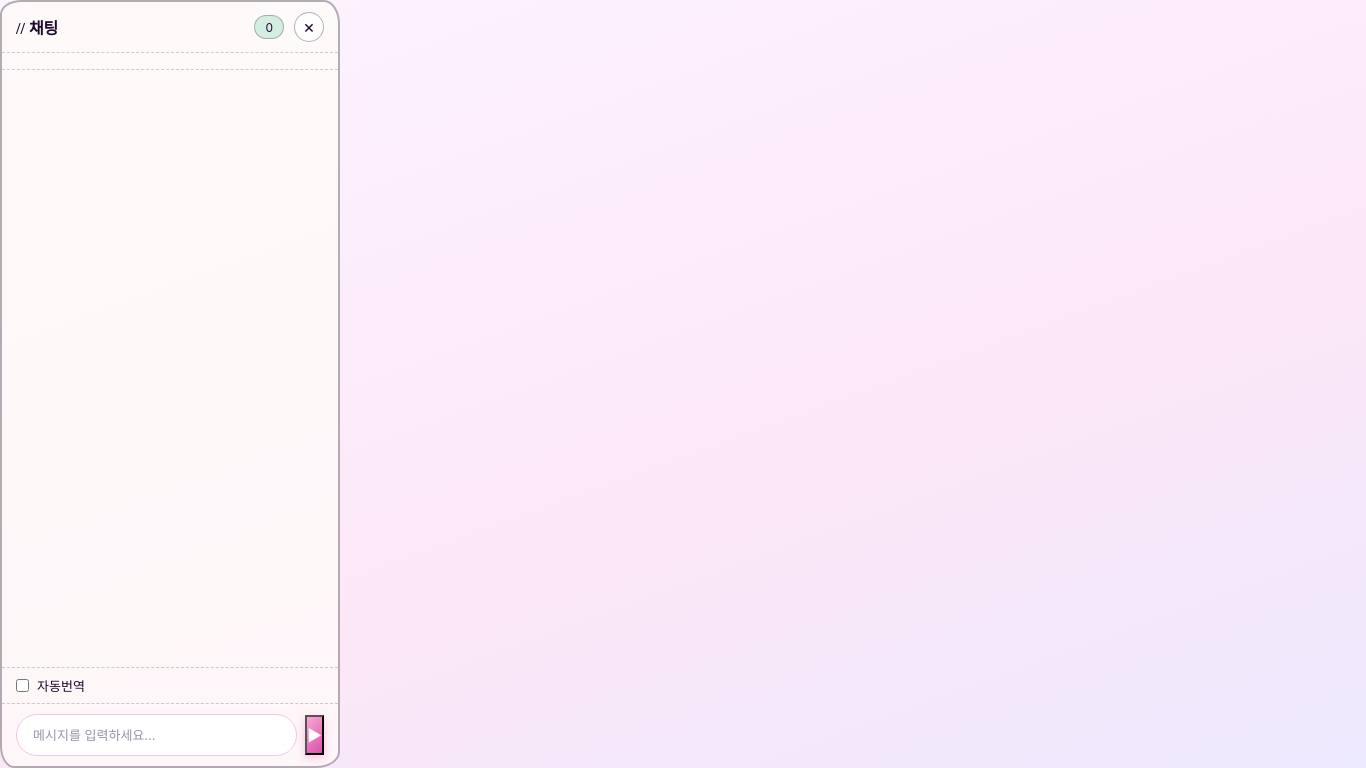
it: ChatDock 입력창 › ack가 오지 않으면 타임아웃으로 입력을 보존하고 실패를 알린다
The image size is (1366, 768).
Type "hello" into the field at {"x": 157, "y": 735}, box [16,714,297,756]
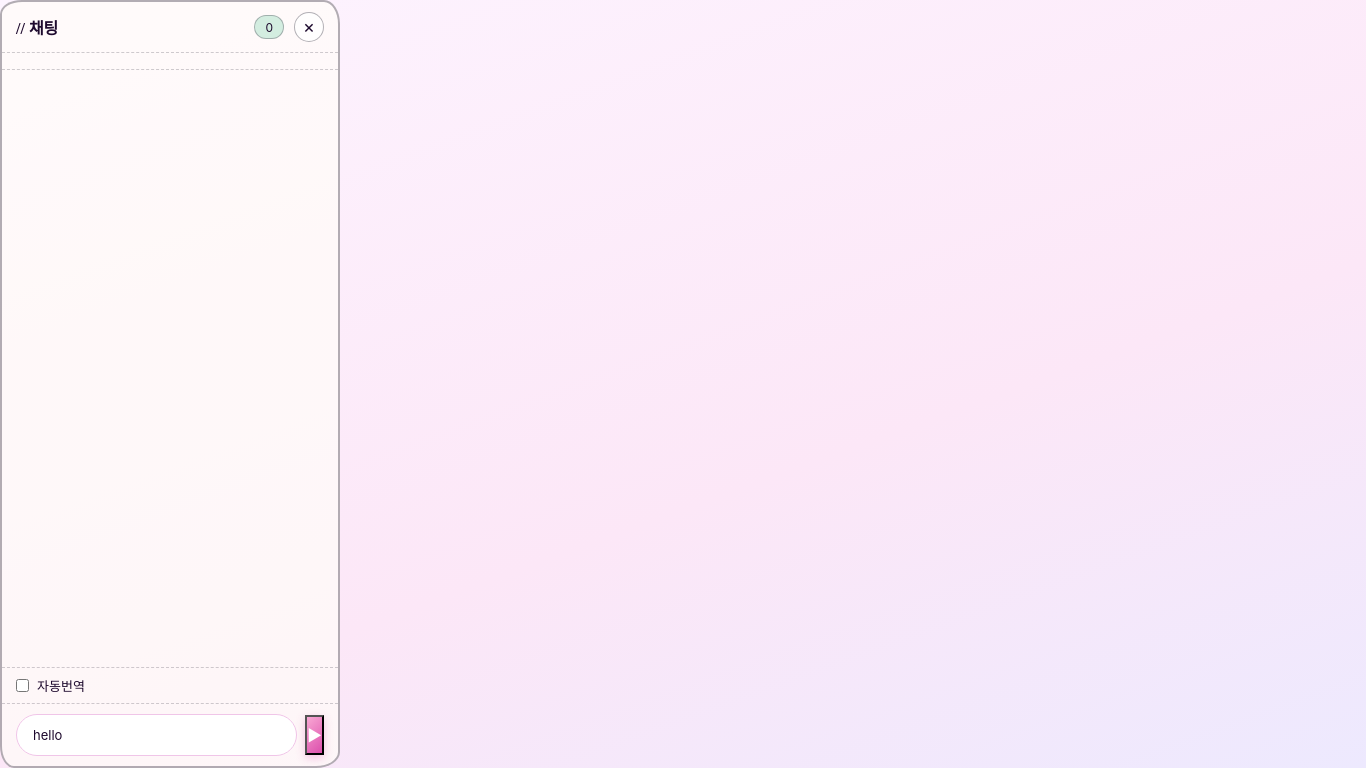
Press Enter in the field, box [16,714,297,756]
Wait 5000 ms
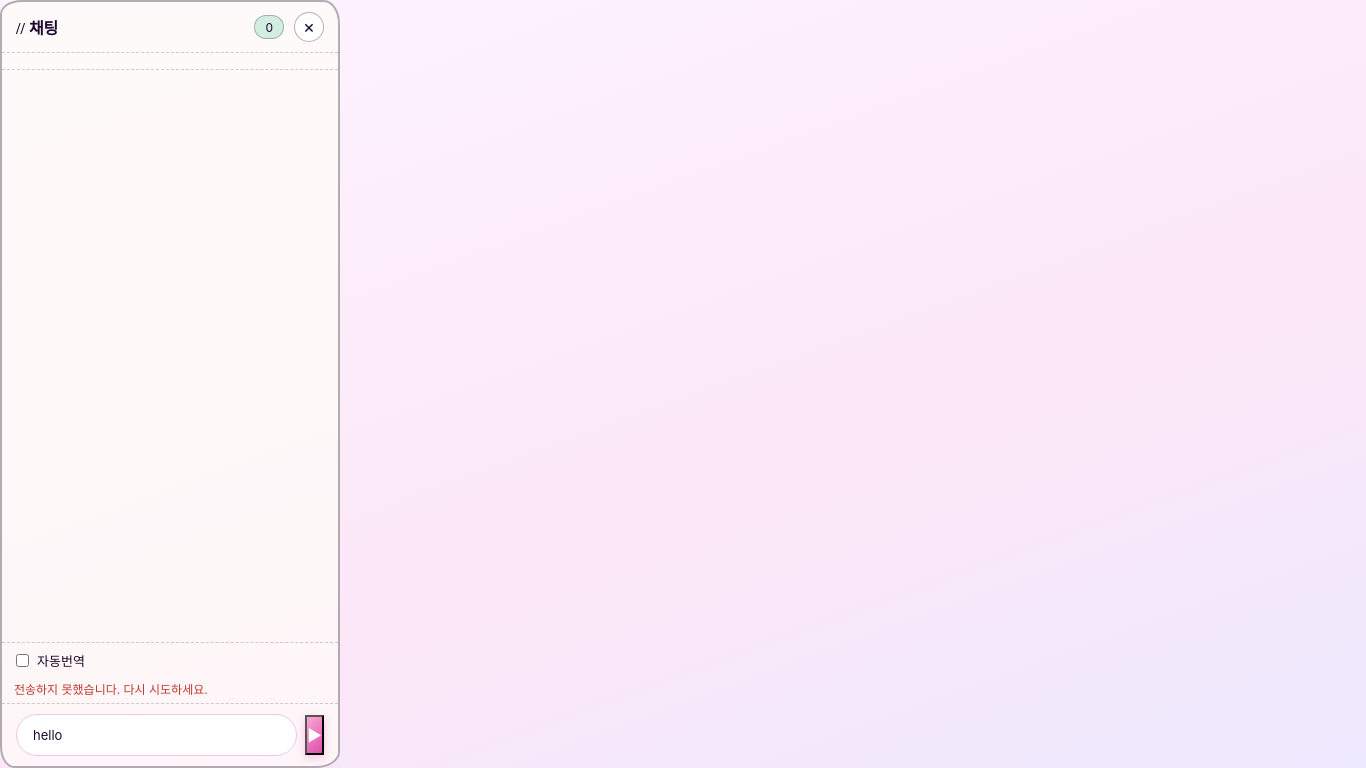
Expected: the message "전송하지 못했습니다. 다시 시도하세요." is shown, [14,682,208,697]
